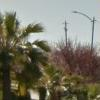Tree: (6, 11, 55, 78)
